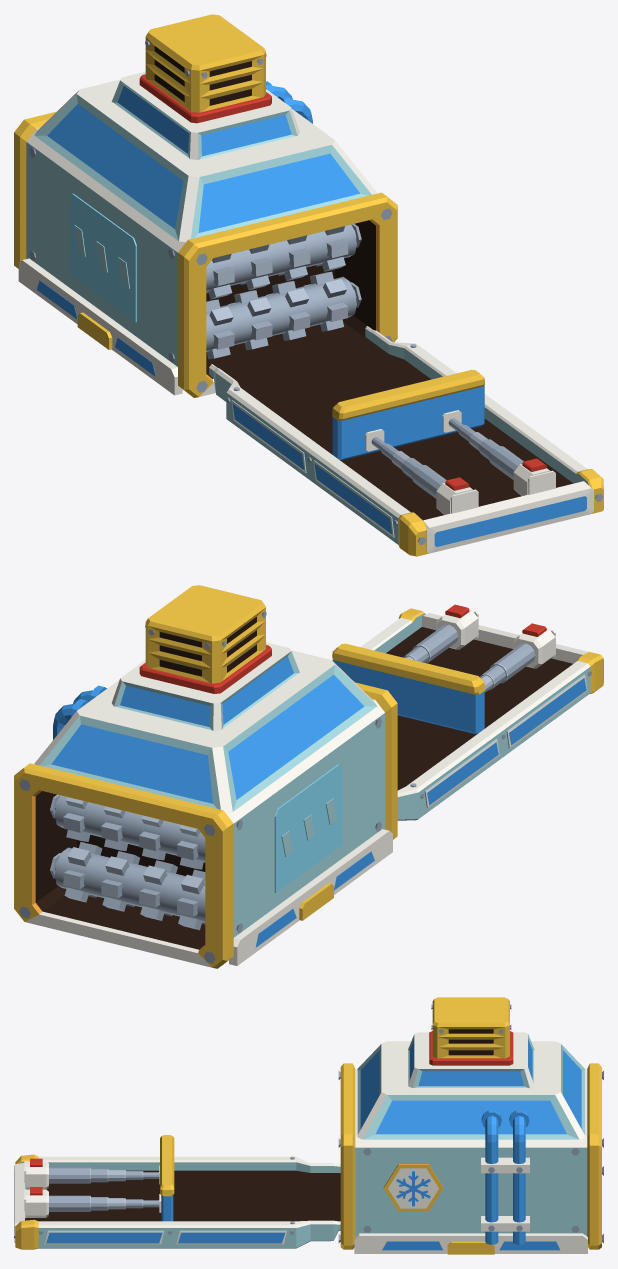
The model's file is RamFeederWithTower.glb.
3 views of the same model, one above another, from view 1: azimuth 30°, elevation 25°; view 2: azimuth 150°, elevation 25°; view 3: azimuth 270°, elevation 25° (orthographic). The views are drawn at different scales.
Parts seen in each view (by area): view 1: ProcessorTower, FeederFrame, Pusher, Front_Lower, Front_Upper; view 2: ProcessorTower, FeederFrame, Rear_Lower, Pusher, Rear_Upper, Sleeves01; view 3: ProcessorTower, FeederFrame, Pusher, Sleeves01, Sleeves02.
Part boxes in pixels (x1,y1,x2,y2): ProcessorTower: (14,14,397,397); FeederFrame: (209,326,603,556); Pusher: (332,369,484,459); Front_Lower: (206,271,356,359); Front_Upper: (206,224,356,299); ProcessorTower: (14,585,397,968); FeederFrame: (360,604,603,820); Rear_Lower: (54,842,205,930); Pusher: (332,643,484,733); Rear_Upper: (54,795,205,869); Sleeves01: (403,646,505,690); ProcessorTower: (338,997,603,1254); FeederFrame: (14,1154,340,1249); Pusher: (143,1135,174,1221); Sleeves01: (91,1168,108,1210); Sleeves02: (108,1170,125,1209).
Size of the model in its own units: 2.67 by 2.93 by 7.67.
2 materials, 2 textured.
